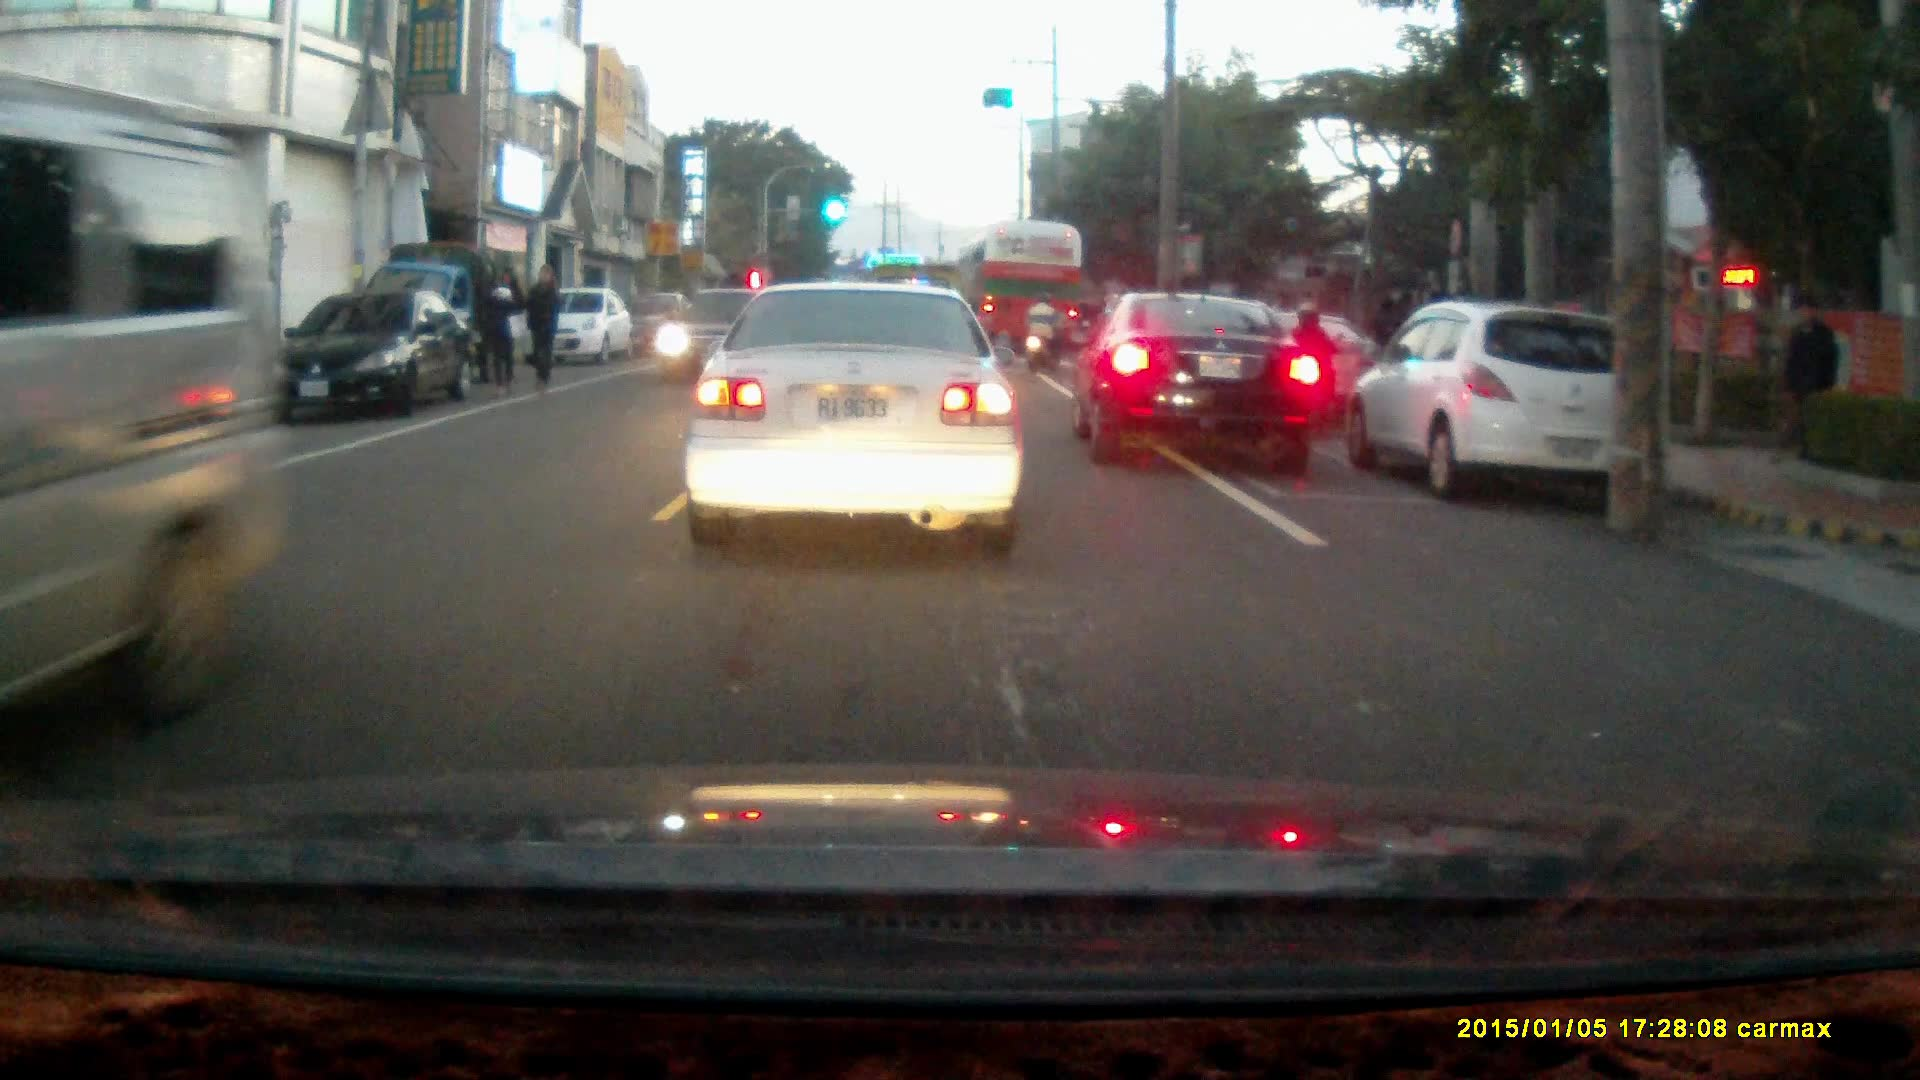pedestrian: (1780, 290, 1840, 463), (480, 265, 524, 397), (522, 261, 560, 398)
rider: (1288, 300, 1345, 444), (1022, 293, 1059, 371)
vehicle: (1, 109, 291, 765), (680, 282, 1028, 558), (1343, 298, 1658, 505), (1070, 293, 1316, 475), (281, 284, 473, 422), (367, 239, 523, 393), (962, 220, 1089, 366), (660, 281, 754, 383), (517, 285, 636, 364)
